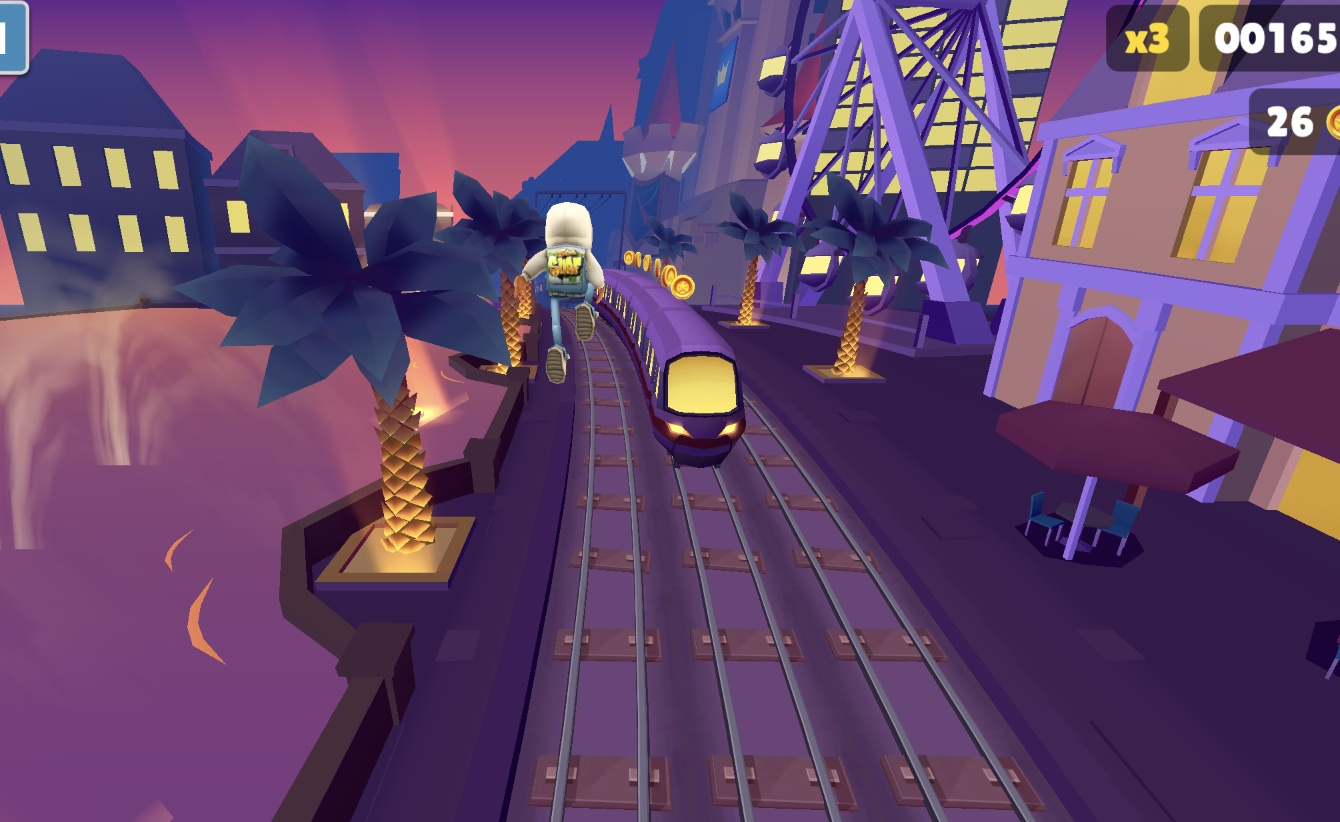train: (592, 263, 751, 468)
